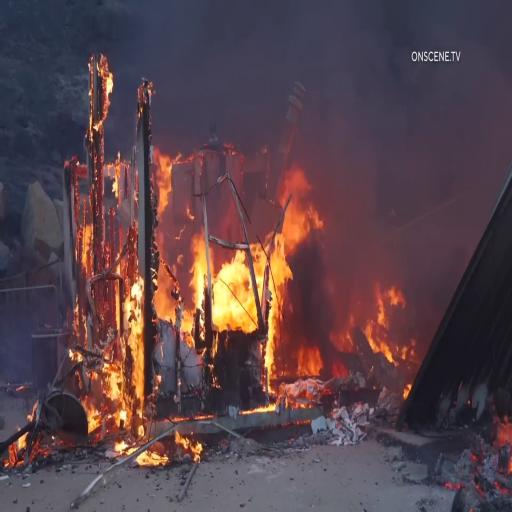fire: (333, 133, 459, 266), (211, 249, 265, 327)
